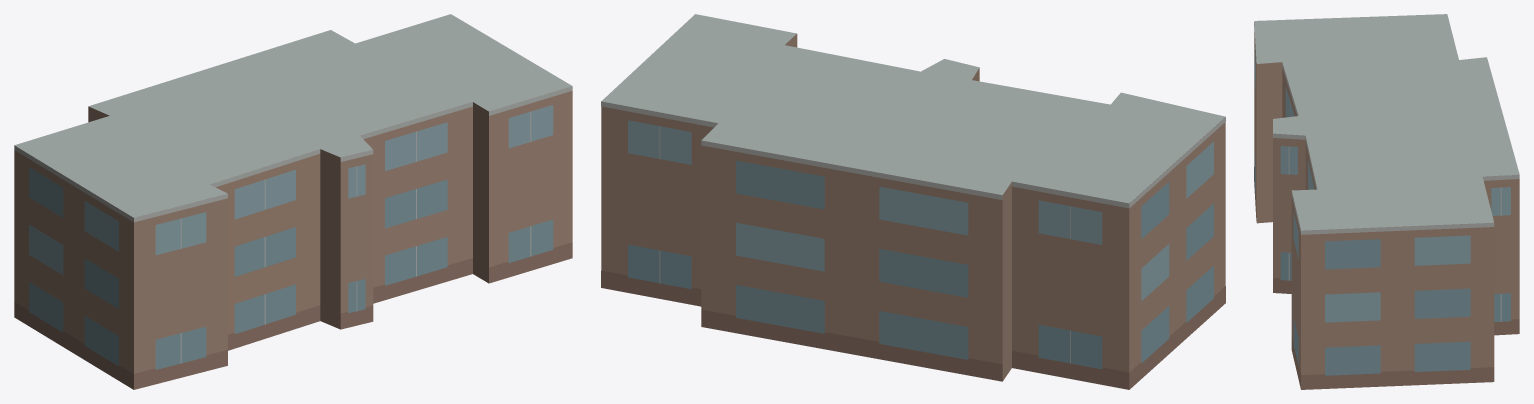
Rendered from survey-upis-32921834.glb.
The picture shows the model from 3 angles, left to right: view 1: azimuth 30°, elevation 25°; view 2: azimuth 150°, elevation 25°; view 3: azimuth 270°, elevation 25°; orthographic projection. The views are drawn at different scales.
Visible parts, largest first — view 1: survey-upis-32921834.tmp; view 2: survey-upis-32921834.tmp; view 3: survey-upis-32921834.tmp.
Part boxes in pixels (x1,y1,x2,y2): survey-upis-32921834.tmp: (14, 14, 572, 389); survey-upis-32921834.tmp: (601, 14, 1225, 389); survey-upis-32921834.tmp: (1254, 14, 1519, 389).
Bounding box in the file's own units: 26.7 × 9.15 × 13.84.
